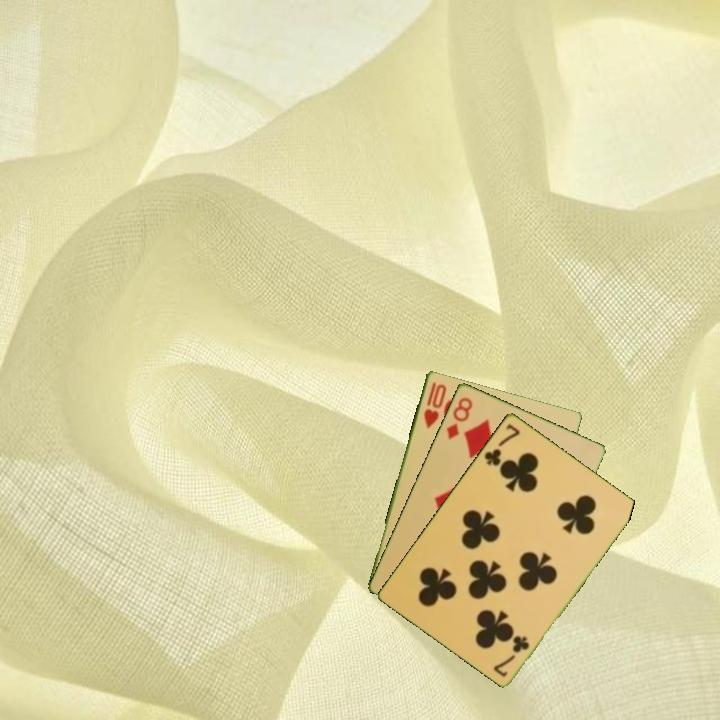10h: (420, 378, 449, 431)
7c: (480, 420, 523, 469), (490, 632, 532, 679)
8d: (442, 393, 475, 442)
